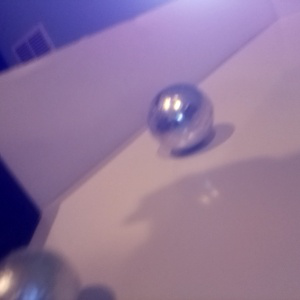alive_ball: (147, 83, 213, 152), (1, 248, 82, 300)
